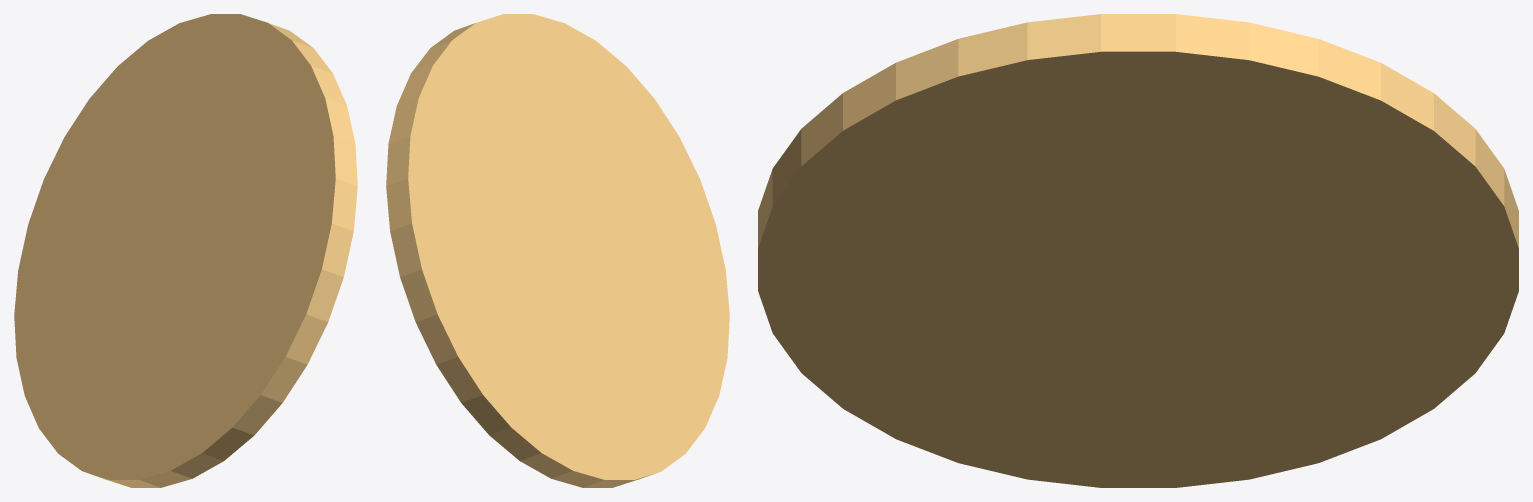
File: bot_Pioneer_p3dx_visible_vis_30.dae
The picture shows the model from 3 angles, left to right: view 1: azimuth 30°, elevation 25°; view 2: azimuth 150°, elevation 25°; view 3: azimuth 270°, elevation 25°; orthographic projection. The views are drawn at different scales.
Parts seen in each view (by area): view 1: Node_0x79a7dace6cf0; view 2: Node_0x79a7dace6cf0; view 3: Node_0x79a7dace6cf0.
Boxes of the visible parts, x1,y1,x2,y2 form: Node_0x79a7dace6cf0: (14, 14, 357, 487); Node_0x79a7dace6cf0: (386, 14, 729, 487); Node_0x79a7dace6cf0: (758, 14, 1518, 487).
Bounding box in the file's own units: 0.0196 × 0.0318 × 0.0355.
